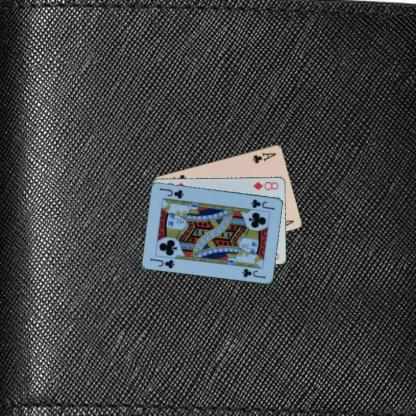8d: (250, 179, 280, 191)
Ac: (250, 150, 278, 164)
Jc: (249, 196, 276, 211), (148, 256, 176, 270)
